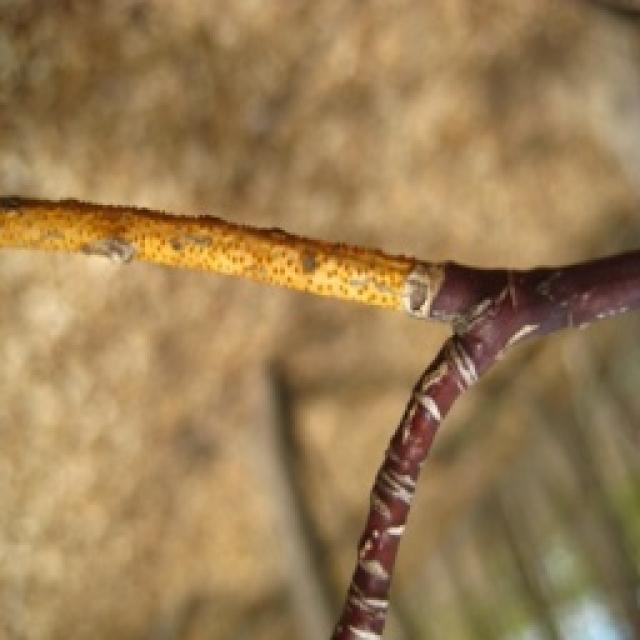Golden_canker: (0, 188, 448, 320)
